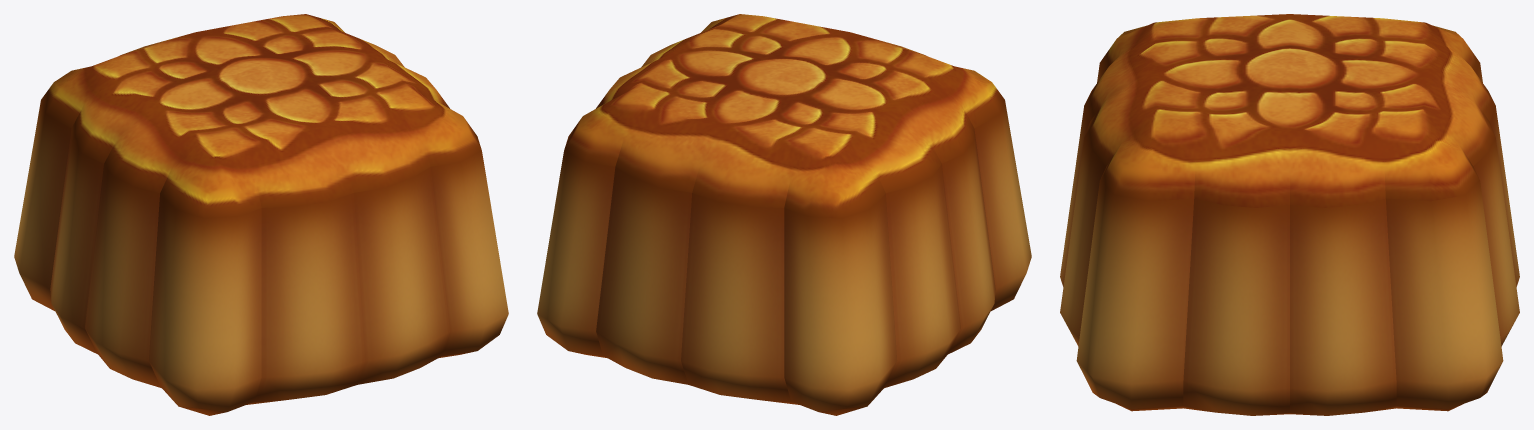
Rendered from 010-Mooncakes_001.FBX.
The picture shows the model from 3 angles, left to right: view 1: azimuth 30°, elevation 25°; view 2: azimuth 150°, elevation 25°; view 3: azimuth 270°, elevation 25°; orthographic projection. The views are drawn at different scales.
Visible parts, largest first — view 1: 010-Mooncakes_001; view 2: 010-Mooncakes_001; view 3: 010-Mooncakes_001.
Boxes of the visible parts, x1=… form: 010-Mooncakes_001: x1=14, y1=14, x2=508, y2=415; 010-Mooncakes_001: x1=537, y1=14, x2=1031, y2=415; 010-Mooncakes_001: x1=1060, y1=14, x2=1519, y2=415.
Bounding box in the file's own units: 12.03 × 8.16 × 12.1.
